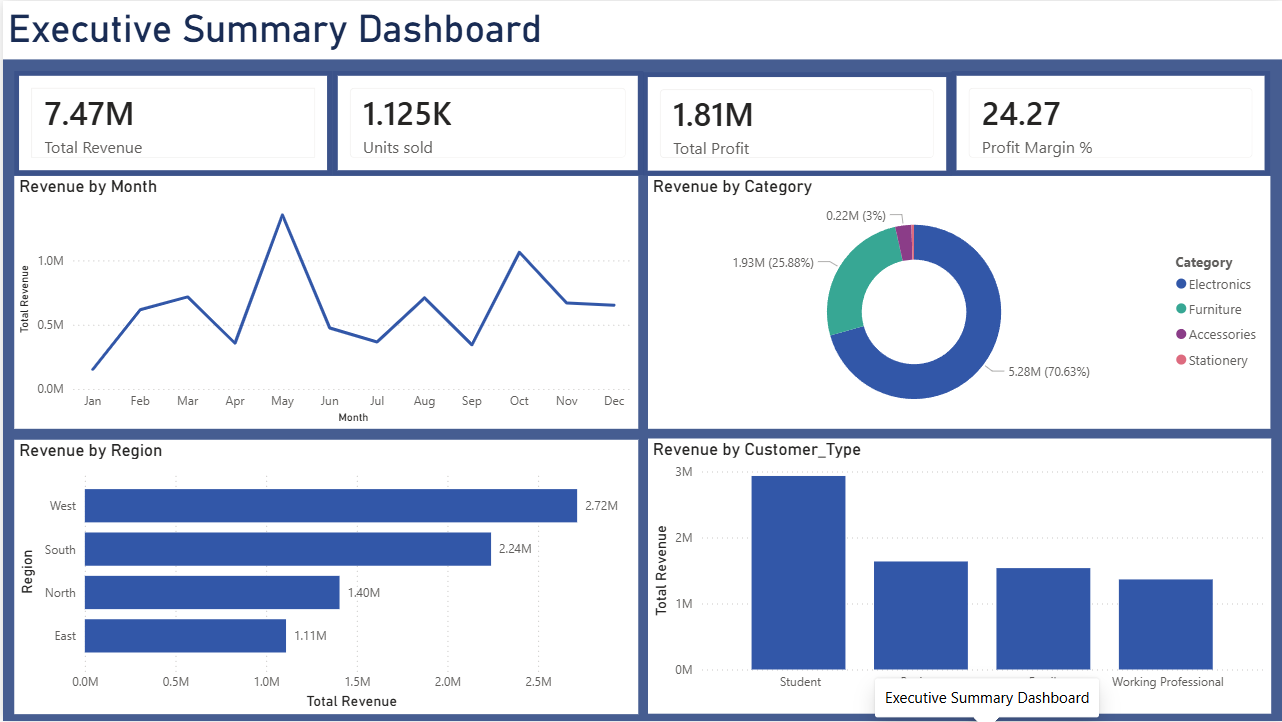

Layout of this report page (visuals, bound fields, positions):
{"tool":"powerbi","page":{"name":"Executive Summary Dashboard","canvas":[1280,720],"ordinal":3},"visuals":[{"type":"textbox","box":[0,0,1280,58.6],"z":0},{"type":"cardVisual","fields":{"Data":["SalesDataTable.Total Revenue"]},"box":[11.4,70,318.6,104.3],"z":1},{"type":"cardVisual","fields":{"Data":["SalesDataTable.Units sold"]},"box":[330,70,310,104.3],"z":2},{"type":"cardVisual","fields":{"Data":["SalesDataTable.Total Profit"]},"box":[640,71.5,308.5,103],"z":3},{"type":"cardVisual","fields":{"Data":["CustomersTable.Profit Margin %"]},"box":[948.6,70,318.6,104.3],"z":4},{"type":"donutChart","title":"Revenue by Category","fields":{"Category":["ProductsTable.Category"],"Y":["SalesDataTable.Total Revenue"]},"box":[644.5,175.5,622.5,253],"z":5},{"type":"lineChart","title":"Revenue by Month","fields":{"Category":["SalesDataTable.Month"],"Y":["SalesDataTable.Total Revenue"]},"box":[11.5,175.5,624,253],"z":6},{"type":"clusteredBarChart","title":"Revenue by Region","fields":{"Y":["SalesDataTable.Total Revenue"],"Category":["StoresTable.Region"]},"box":[11.8,438.2,623.6,274.5],"z":7},{"type":"clusteredColumnChart","title":"Revenue by Customer_Type","fields":{"Category":["CustomersTable.Customer_Type"],"Y":["SalesDataTable.Total Revenue"]},"box":[645,438,623,275],"z":8}]}

Visuals, with their boxes in screenshot pixels (x1, y1, x2, y2), scaled from the page's 1280x720 canvas onto the 1282x722 screenshot:
textbox: select_region(0, 0, 1281, 59)
cardVisual - SalesDataTable.Total Revenue: select_region(11, 70, 331, 175)
cardVisual - SalesDataTable.Units sold: select_region(331, 70, 641, 175)
cardVisual - SalesDataTable.Total Profit: select_region(641, 72, 950, 175)
cardVisual - CustomersTable.Profit Margin %: select_region(950, 70, 1269, 175)
"Revenue by Category" donutChart: select_region(646, 176, 1269, 430)
"Revenue by Month" lineChart: select_region(12, 176, 636, 430)
"Revenue by Region" clusteredBarChart: select_region(12, 439, 636, 715)
"Revenue by Customer_Type" clusteredColumnChart: select_region(646, 439, 1270, 715)
